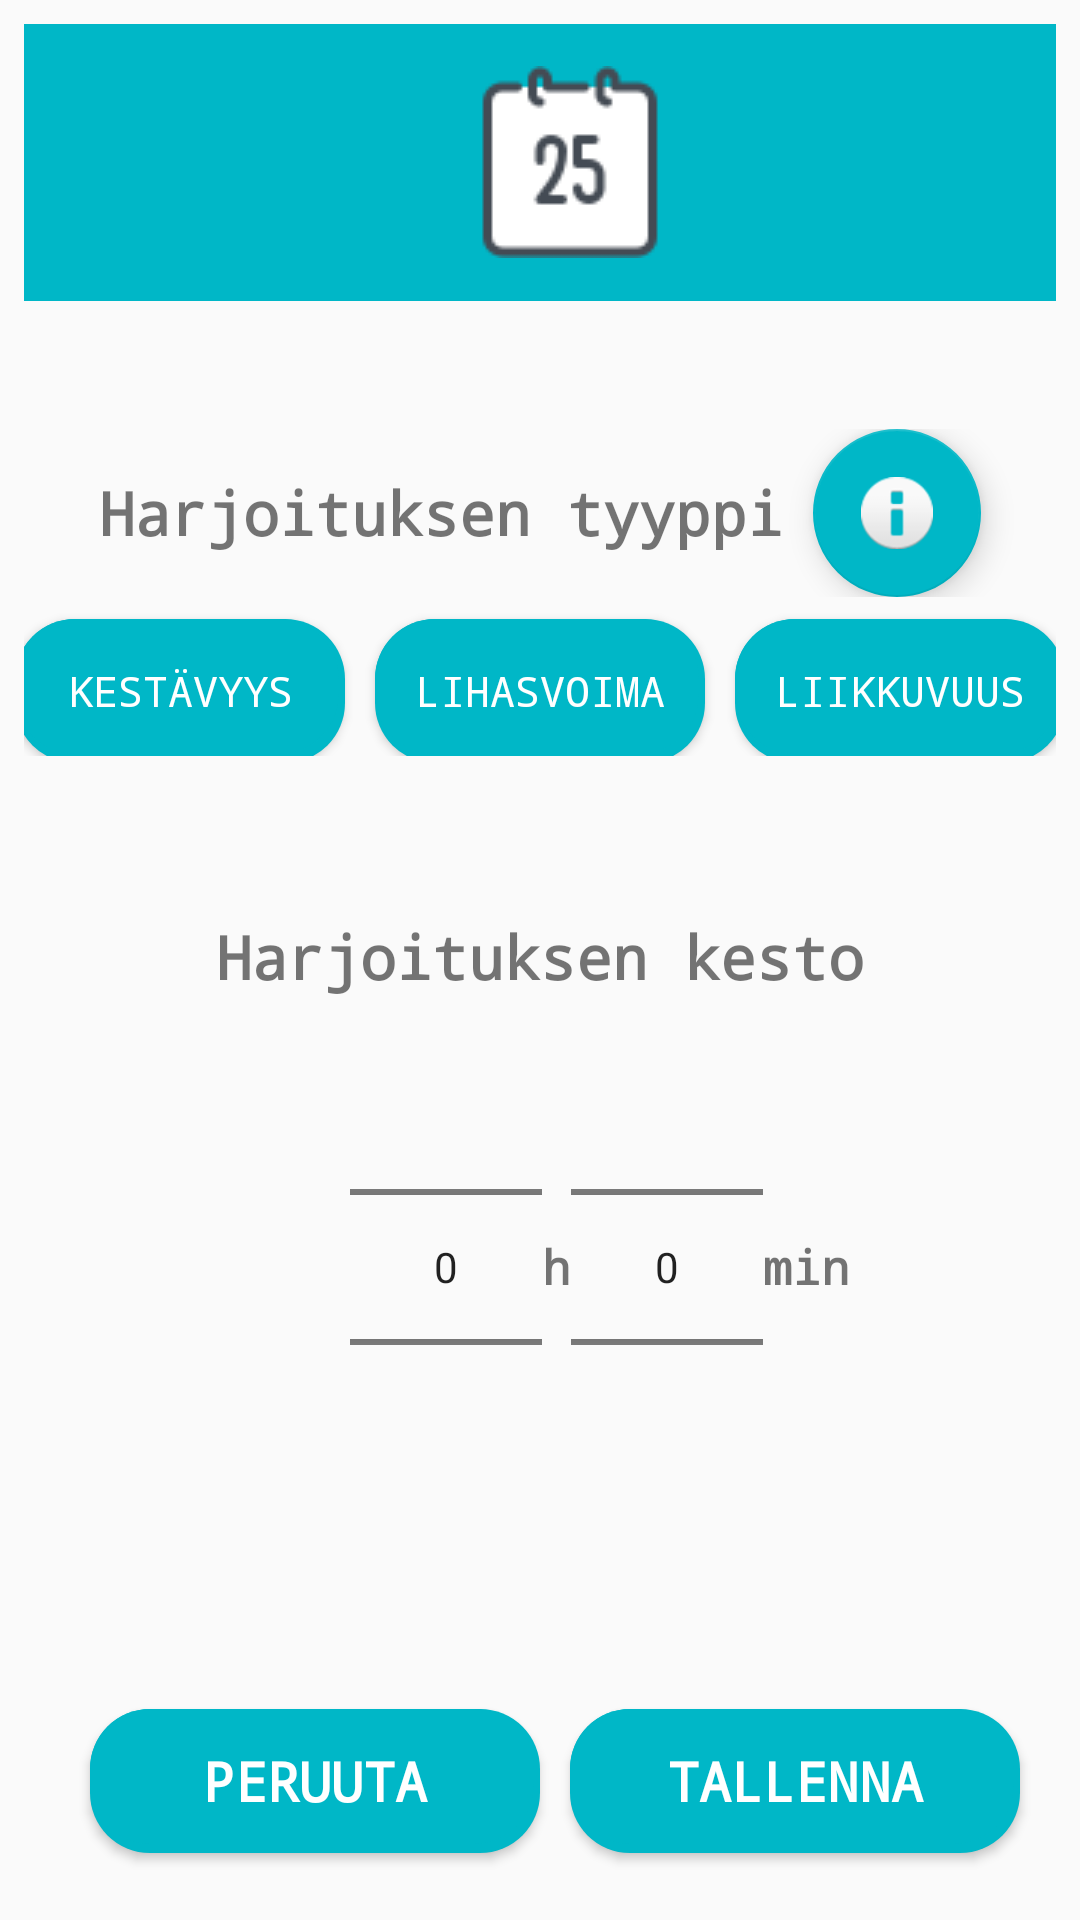

Screen size 1080×1920. Icon name, then its box in pixels as (x1, y1, x2, y2):
calendericon: (482, 66, 658, 258)
info: (813, 429, 981, 597)
